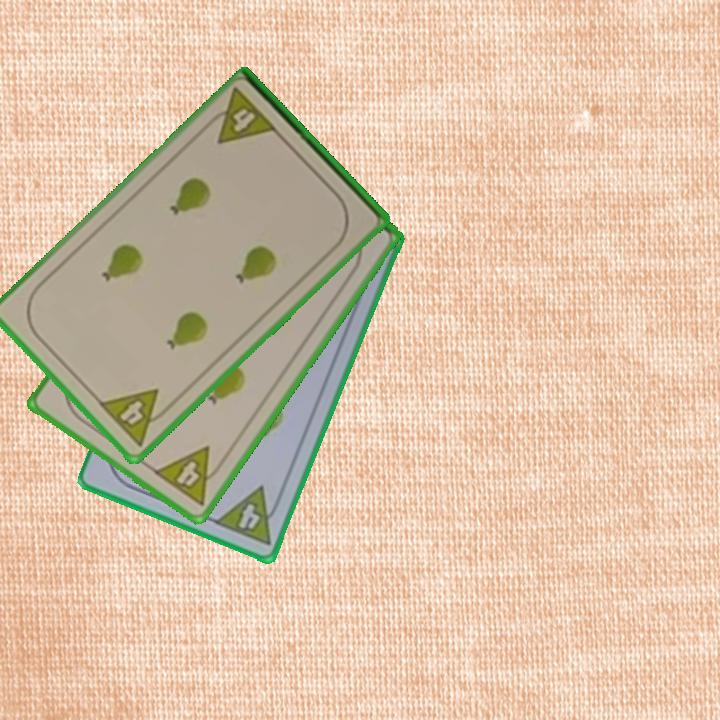4p: (150, 442, 230, 509), (95, 385, 176, 449), (201, 85, 281, 148), (211, 483, 286, 548)
